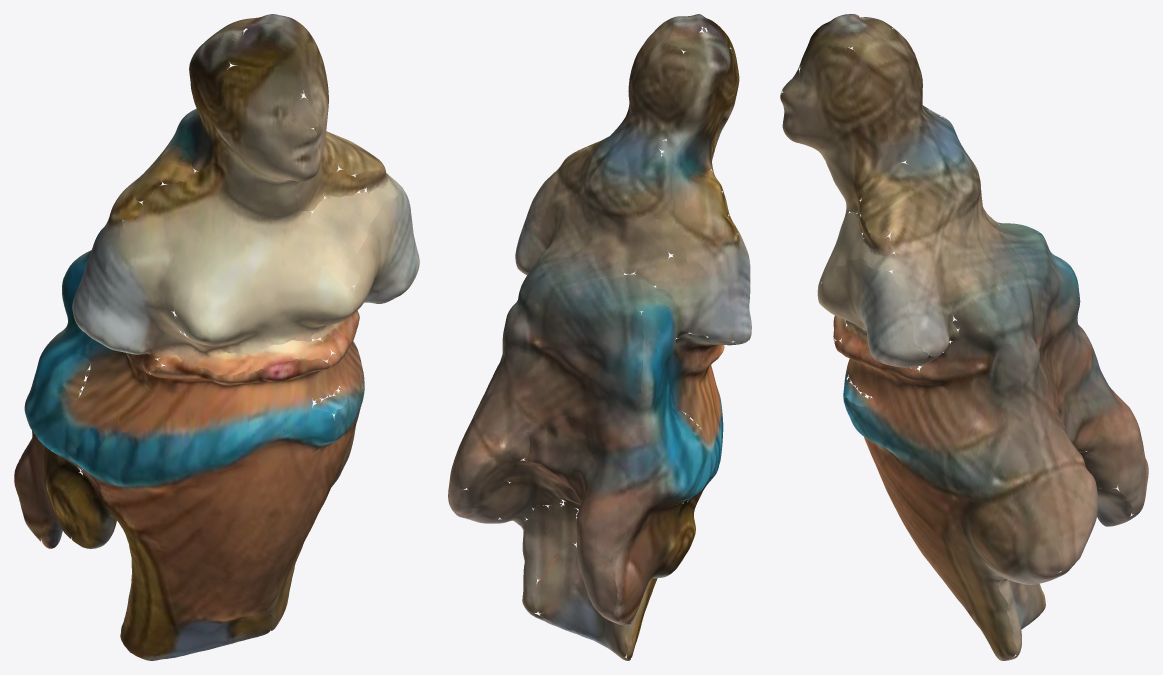
Rendered from aurora.glb.
The picture shows the model from 3 angles, left to right: view 1: azimuth 30°, elevation 25°; view 2: azimuth 150°, elevation 25°; view 3: azimuth 270°, elevation 25°; orthographic projection. The views are drawn at different scales.
Visible parts, largest first — view 1: aurora_Figurehead; view 2: aurora_Figurehead; view 3: aurora_Figurehead.
Part boxes in pixels (bbox=[...]): aurora_Figurehead: bbox=[14, 14, 419, 660]; aurora_Figurehead: bbox=[448, 14, 751, 660]; aurora_Figurehead: bbox=[780, 14, 1148, 660].
Bounding box in the file's own units: 1.15 × 2.49 × 1.35.
1 material, 1 textured.
